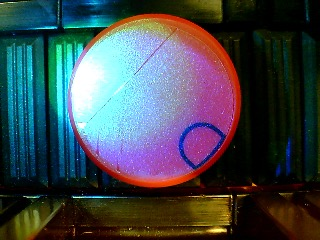MIPO1: (67, 12, 242, 187)
